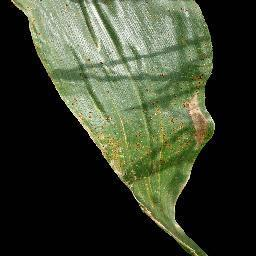Corn_Common_Rust: (147, 0, 217, 256), (72, 113, 147, 212), (42, 58, 111, 114), (8, 0, 90, 36), (29, 35, 100, 57)
